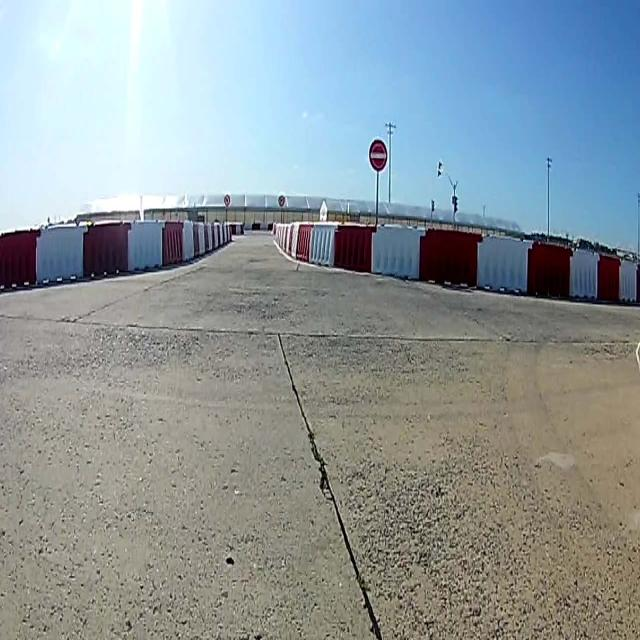girisyok: (371, 143, 385, 169)
